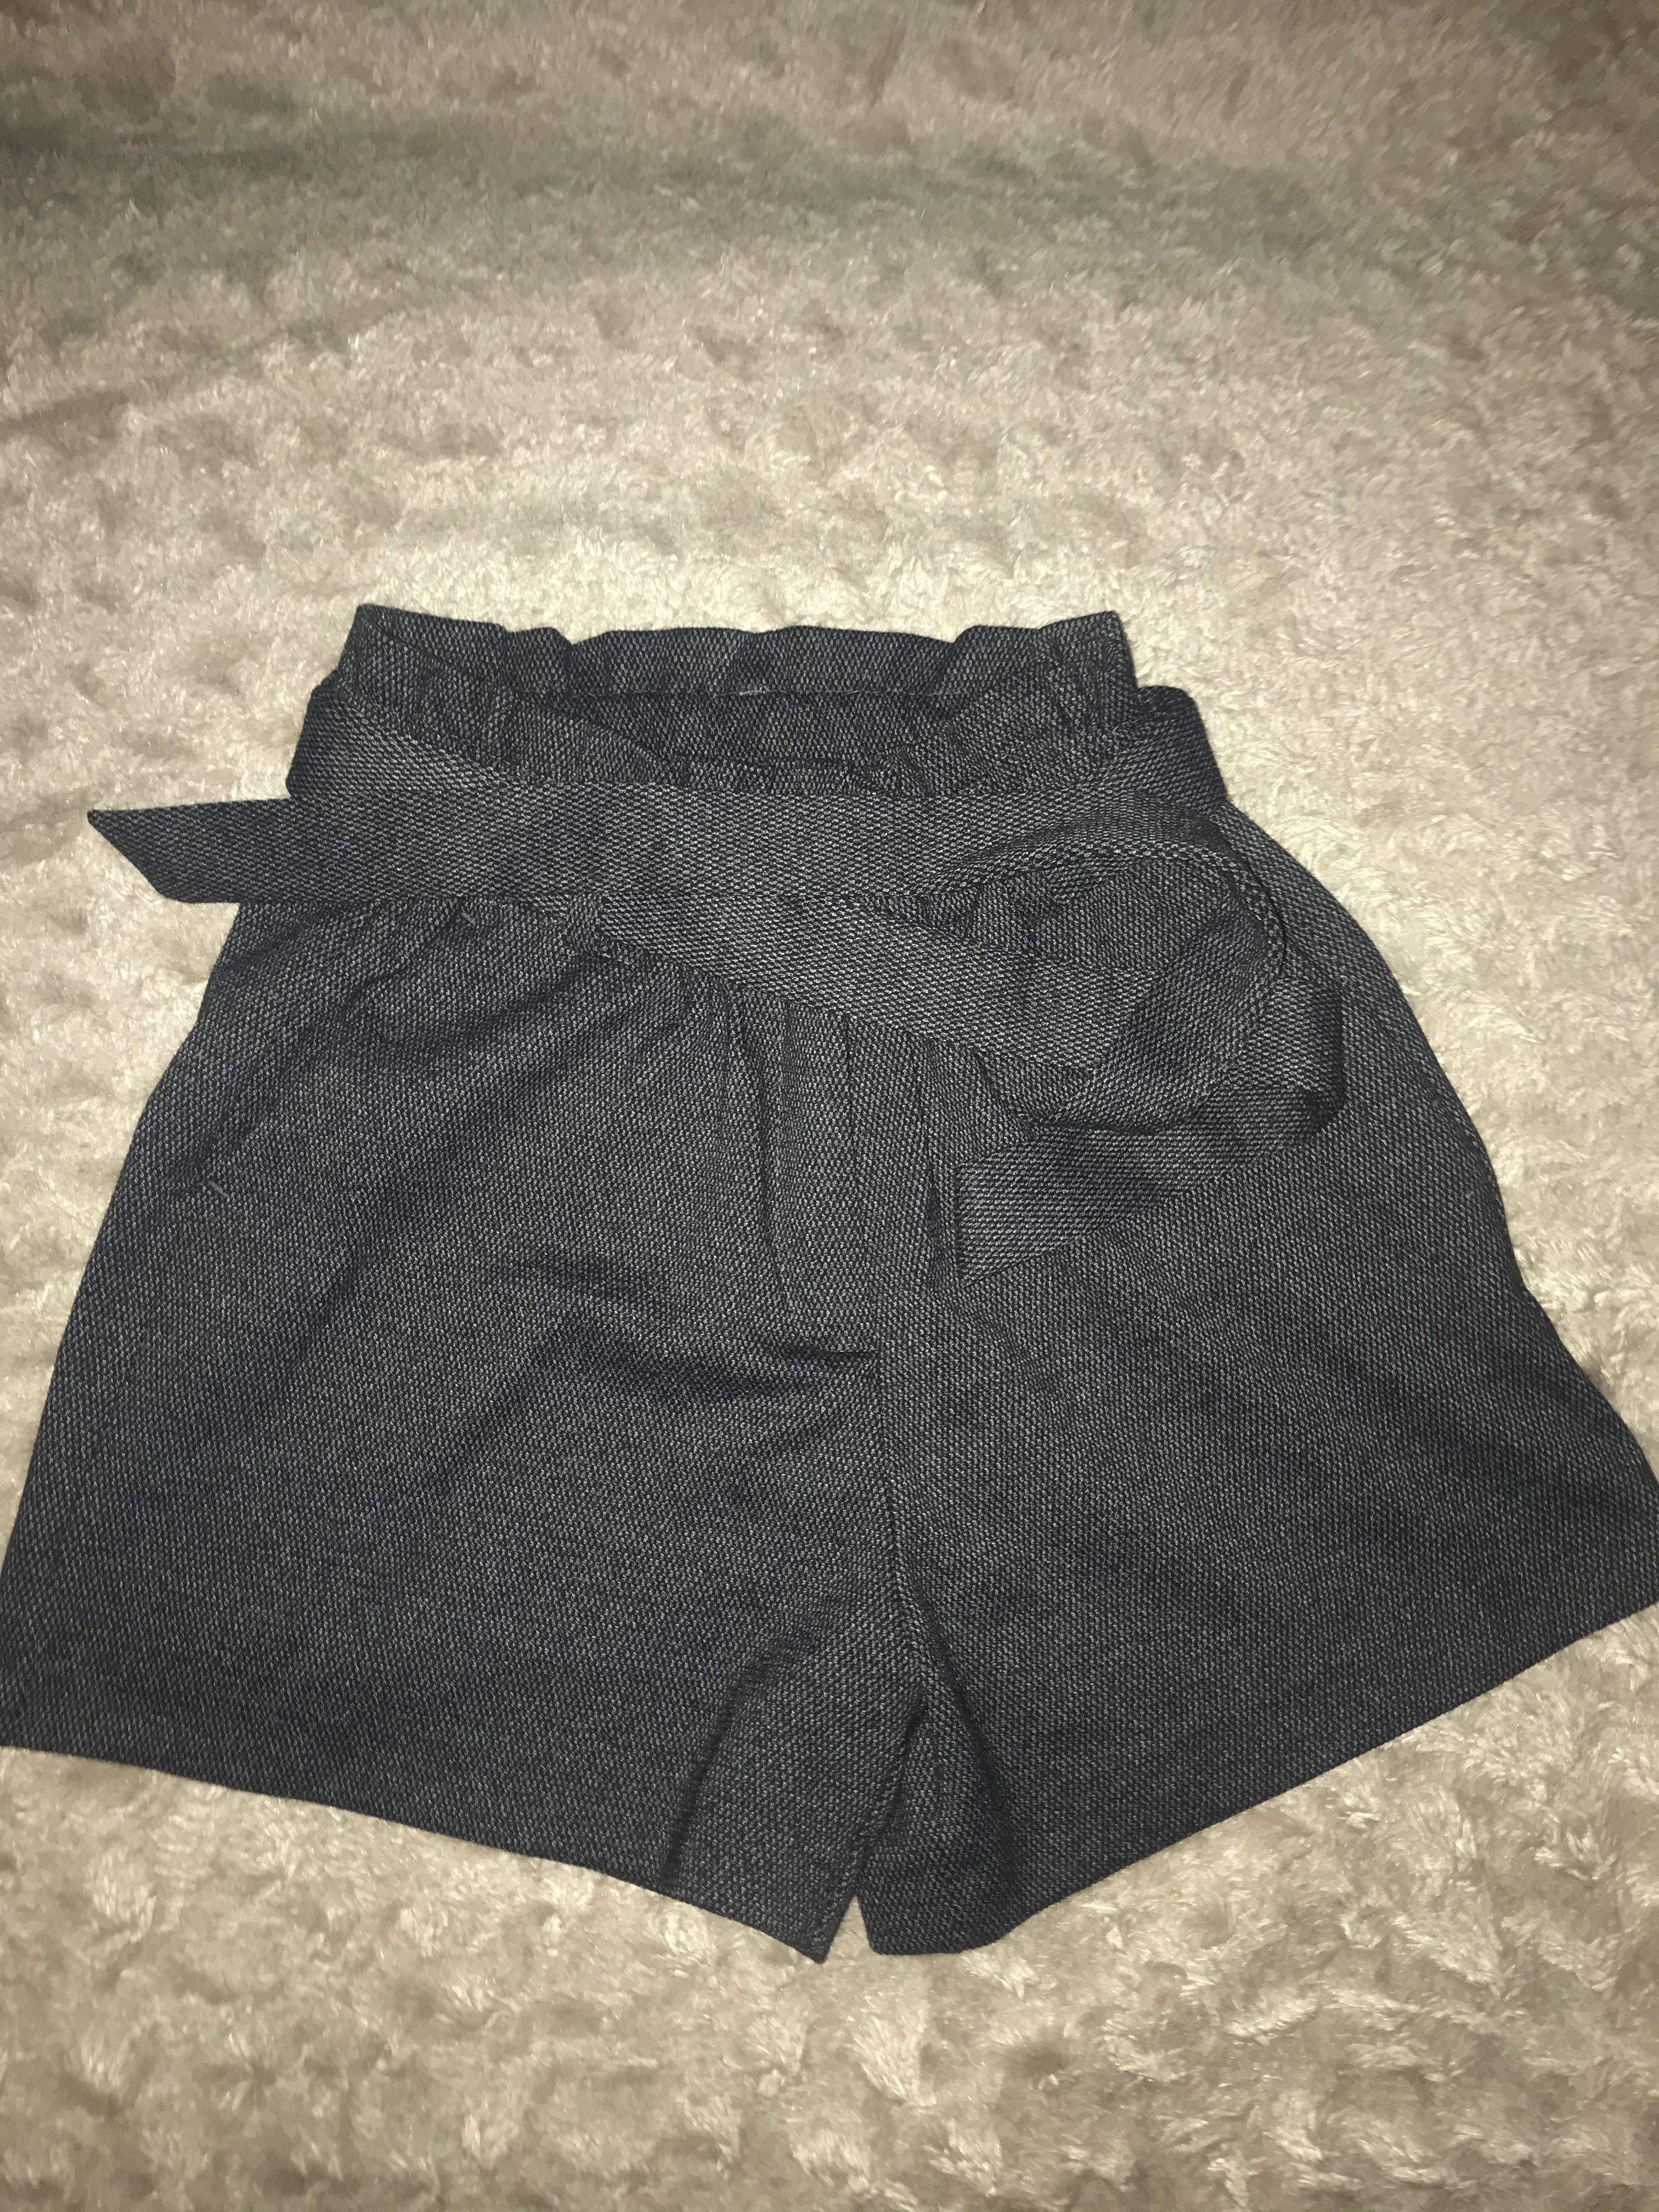clothes: (17, 582, 1645, 1942)
